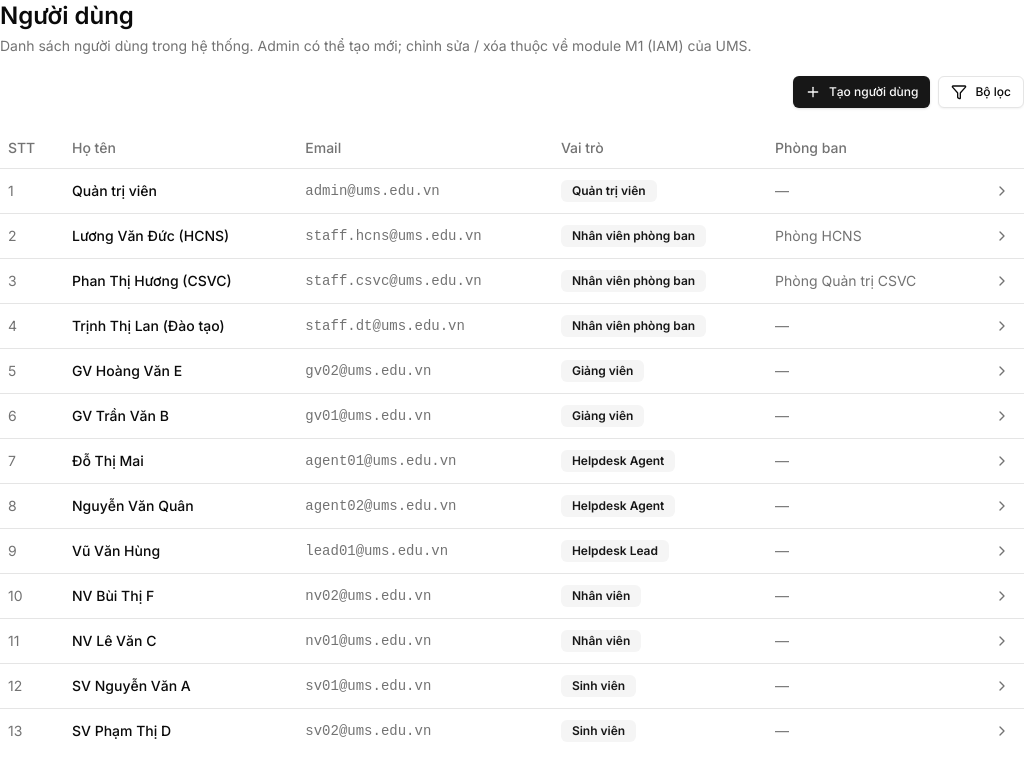
UserDirectory — Admin user directory page (FE-S14) › M31-FE-S14-E1: empty results render the EmptyState copy
This screenshot has width=1024, height=768.
Click the button "Bộ lọc": (981, 92) [938,76,1023,108]
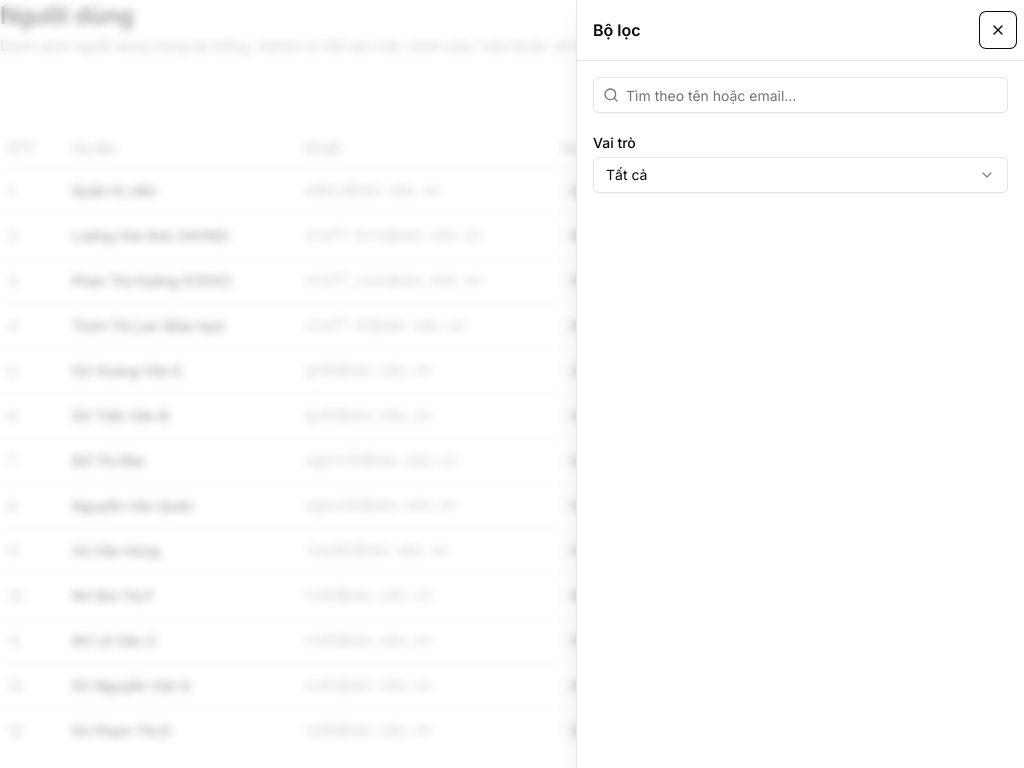
In the search field labelled "Tìm theo tên hoặc email": (800, 95) [593,77,1008,113], type "zzzzzzzz-no-such-person"
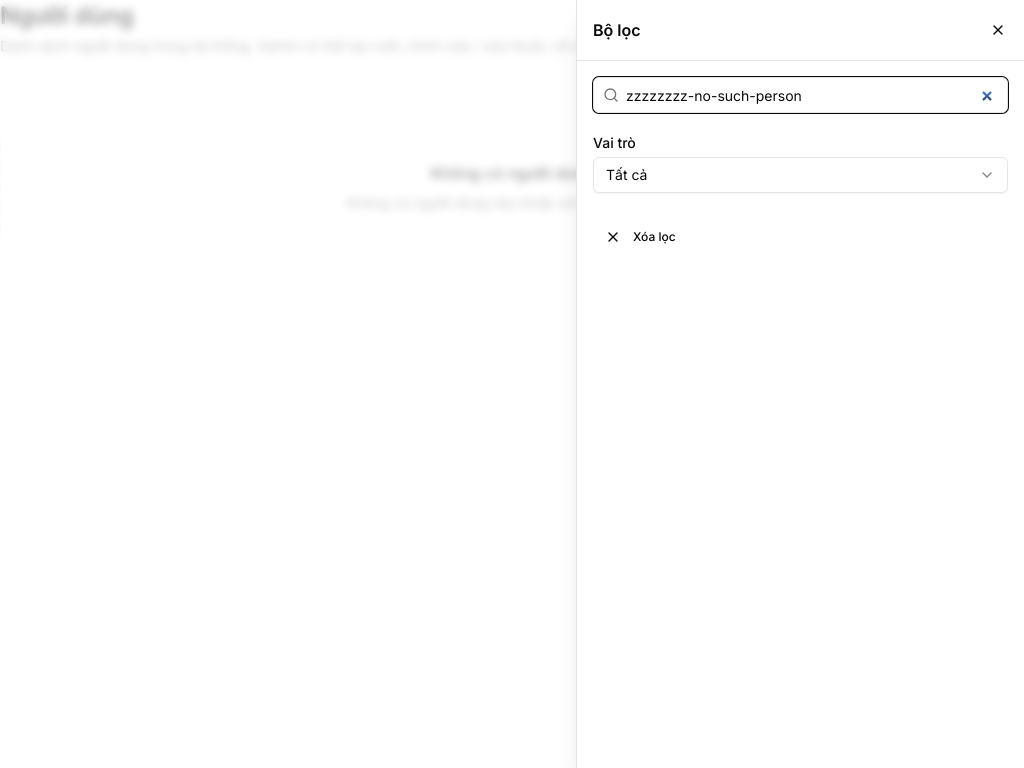
Now the text "Không có người dùng" is shown, box [430,161,594,185]
